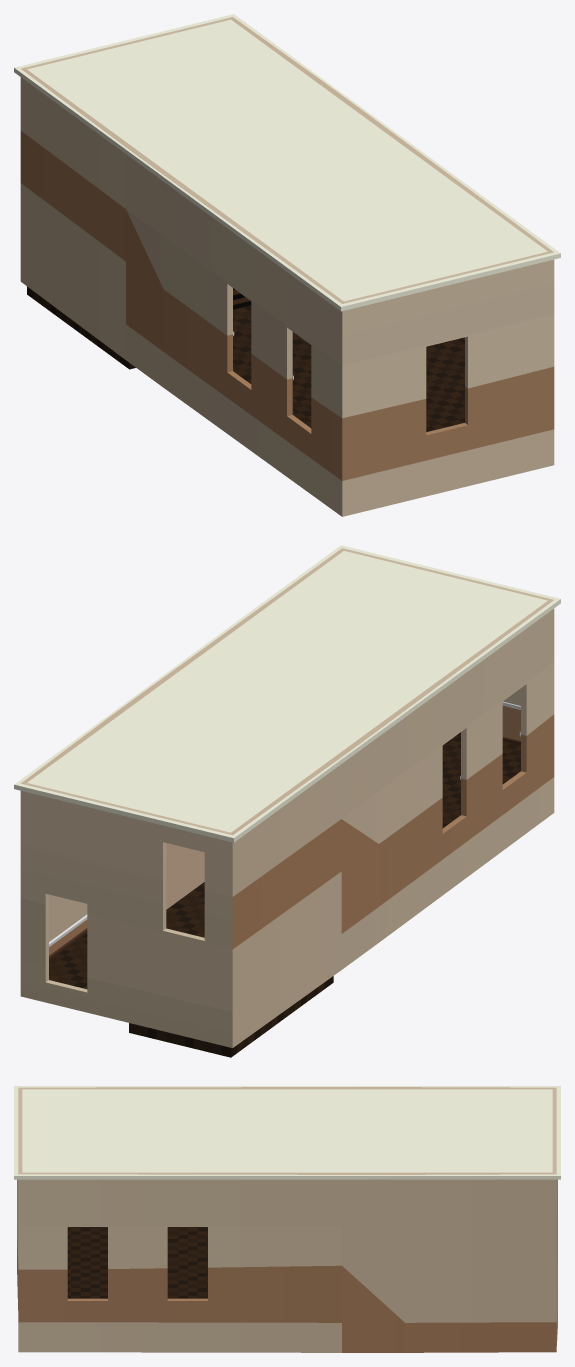
The model's file is plzworkApartmentHallways.fbx.
3 views of the same model, one above another, from view 1: azimuth 30°, elevation 25°; view 2: azimuth 150°, elevation 25°; view 3: azimuth 270°, elevation 25° (orthographic). The views are drawn at different scales.
Visible parts, largest first — view 1: Plane, roof.003, midFloor, midFloor.002; view 2: Plane, roof.003, midFloor.002, midFloor, divider, midFloor.001; view 3: Plane, roof.003, midFloor.
Part boxes in pixels (x1,y1,x2,y2): Plane: (20,17,554,516); roof.003: (14,14,560,311); midFloor: (233,305,464,431); midFloor.002: (27,286,135,369); Plane: (20,548,554,1047); roof.003: (14,545,560,842); midFloor.002: (129,882,333,1057); midFloor: (442,732,520,828); divider: (166,843,204,909); midFloor.001: (49,933,87,989); Plane: (17,1087,557,1352); roof.003: (14,1086,560,1179); midFloor: (67,1227,207,1298).
Size of the model in its own units: 376 by 367 by 968.
Materials: 1 (1 with a texture image).
